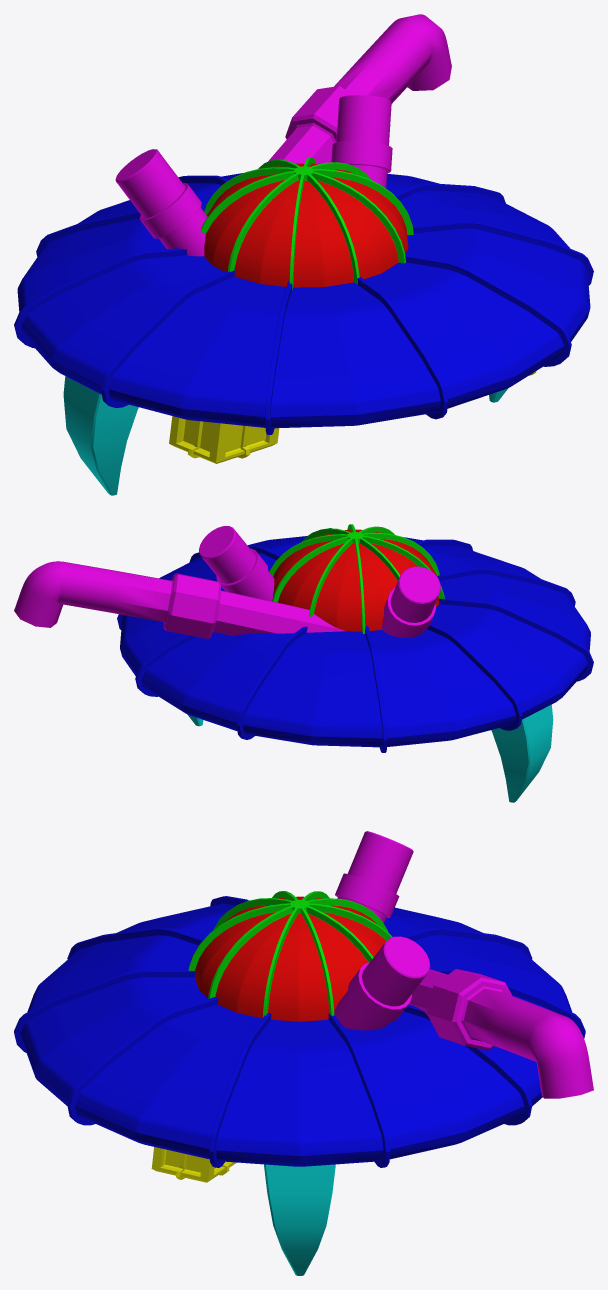
The model's file is BasicEnemy.fbx.
3 renders of one model, top to bottom at view 1: azimuth 30°, elevation 25°; view 2: azimuth 150°, elevation 25°; view 3: azimuth 270°, elevation 25°, orthographic. The views are drawn at different scales.
Visible parts, largest first — view 1: basicEnemy; view 2: basicEnemy; view 3: basicEnemy.
Boxes of the visible parts, bbox=[...] form: basicEnemy: bbox=[14, 14, 593, 495]; basicEnemy: bbox=[14, 524, 593, 802]; basicEnemy: bbox=[14, 831, 593, 1275].
Bounding box in the file's own units: 3.94 × 2.08 × 3.72.
